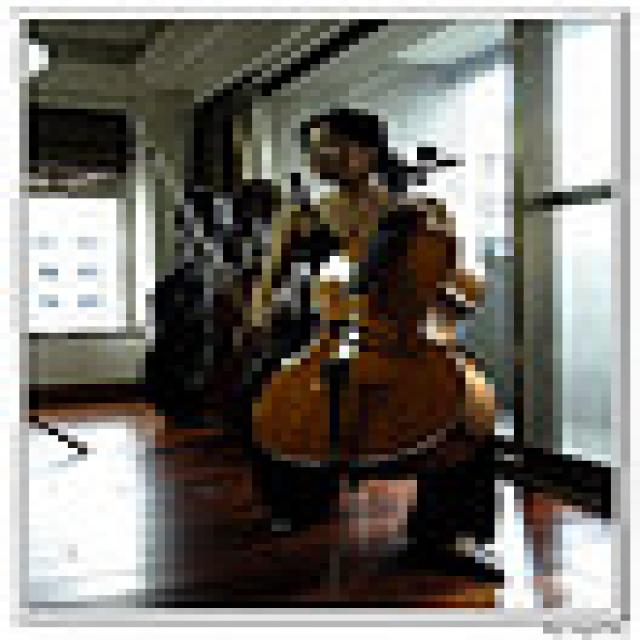cello: (246, 140, 498, 473)
